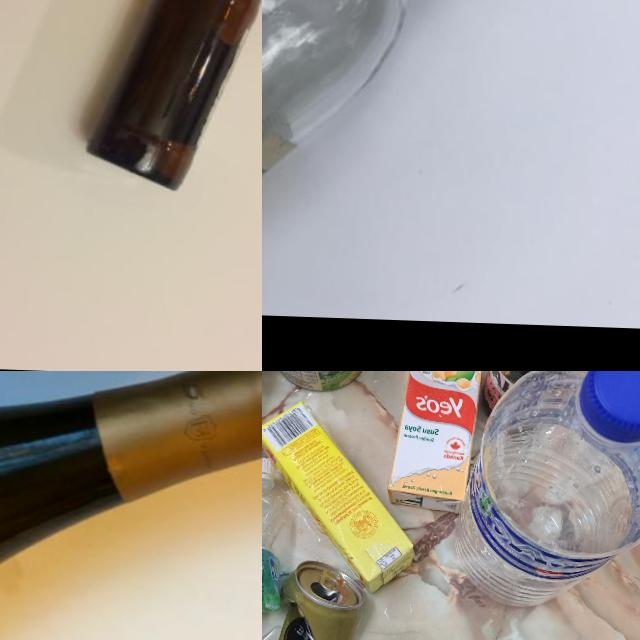aba de lata: (319, 564, 346, 594)
caixinha: (262, 398, 416, 587), (381, 371, 485, 519)
garrafa de vidro: (262, 0, 554, 325), (0, 371, 262, 640), (81, 0, 262, 196), (478, 371, 603, 429)
garrafa plástica: (458, 371, 640, 616), (262, 477, 291, 640)
lata: (262, 561, 369, 640)
tampa plástica: (581, 371, 640, 440), (262, 450, 274, 480)
